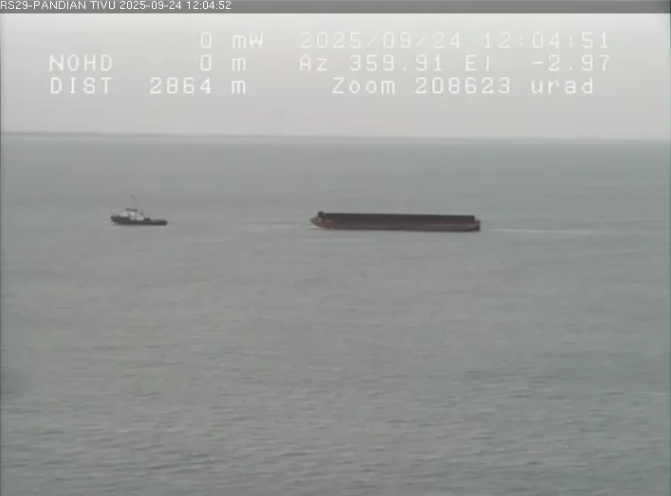BARGE: (275, 189, 503, 253)
OFFSHORE_SUPPLY_VESSEL: (101, 186, 190, 234)
TOWING: (80, 146, 564, 310)
